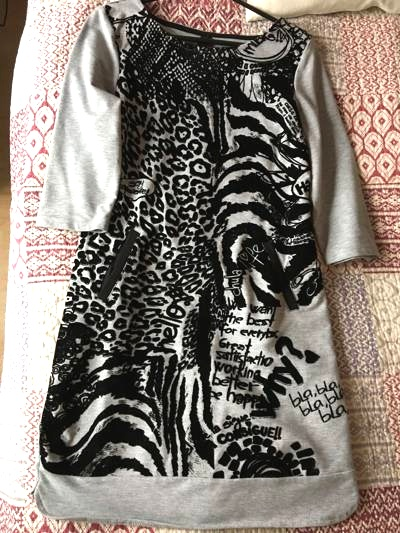Dress: (28, 10, 384, 523)
